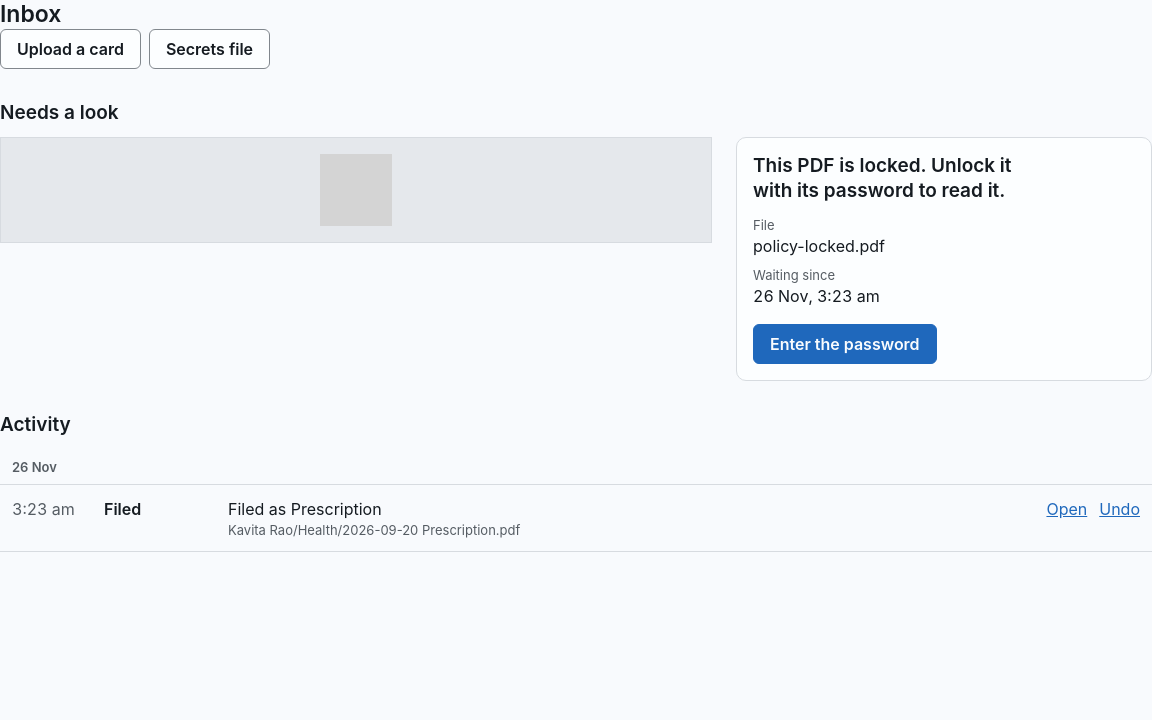
it: InboxPage › a locked file offers Unlock and the dialog opens on it
Click the button "Enter the password" at [845, 344], box [753,324,937,364]
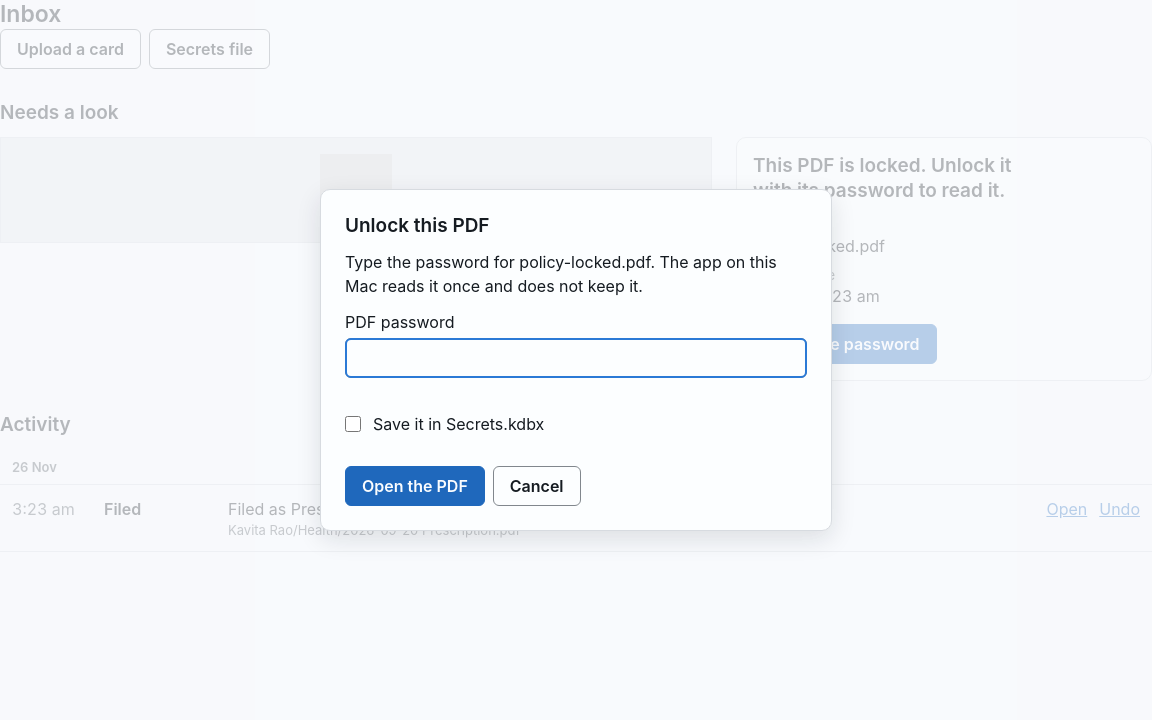
expect the dialog "Unlock this PDF" is shown: met, box [320,189,832,531]
